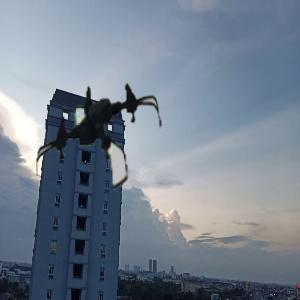drone: (36, 70, 164, 198)
